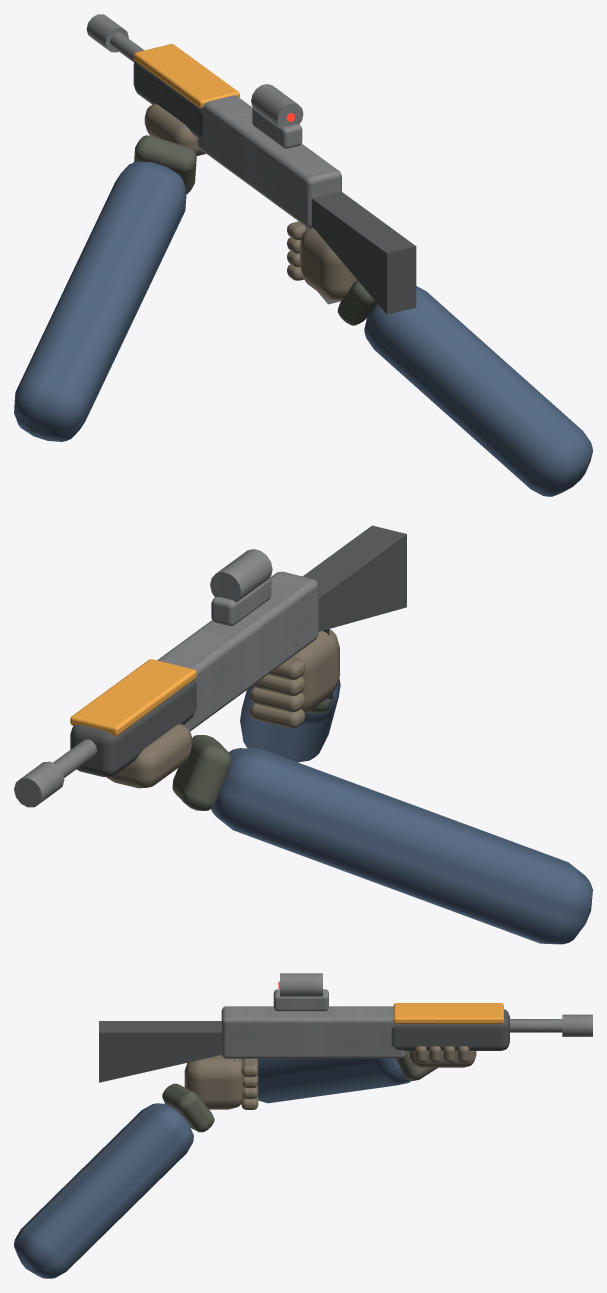
Rendered from rifle.gltf.
3 views of the same model, one above another, from view 1: azimuth 30°, elevation 25°; view 2: azimuth 150°, elevation 25°; view 3: azimuth 270°, elevation 25° (orthographic). The views are drawn at different scales.
Parts seen in each view (by area): view 1: rifle; view 2: rifle; view 3: rifle.
Boxes of the visible parts, x1,y1,x2,y2 form: rifle: [14, 14, 592, 496]; rifle: [14, 525, 592, 944]; rifle: [14, 973, 592, 1278].
Bounding box in the file's own units: 0.6572 × 0.4563 × 0.9433.
Materials: 7 (1 with a texture image).
